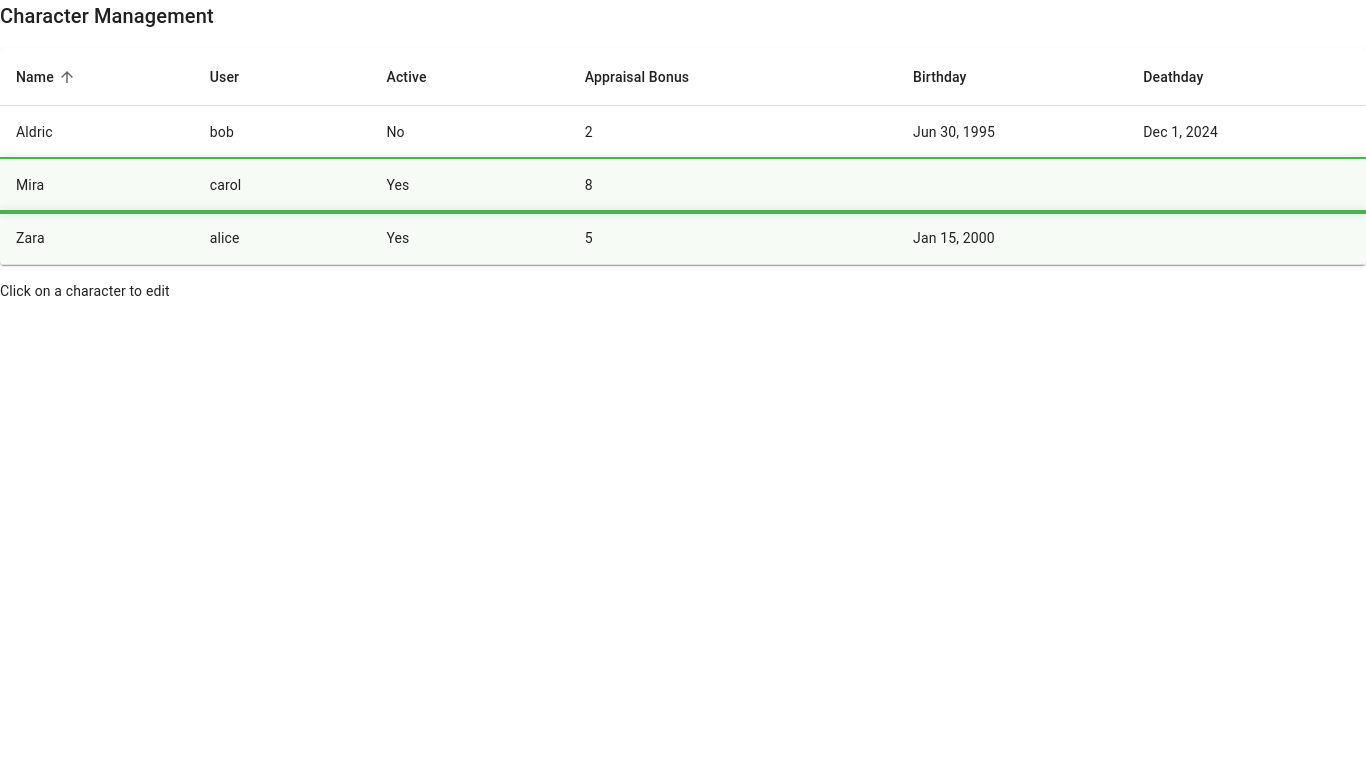
Test case: CharacterManagement (DMSettings) › updating a character › keeps a former member selectable as the owner so the select is never blank
Click the row "Zara" at (683, 238), box [0,212,1365,265]
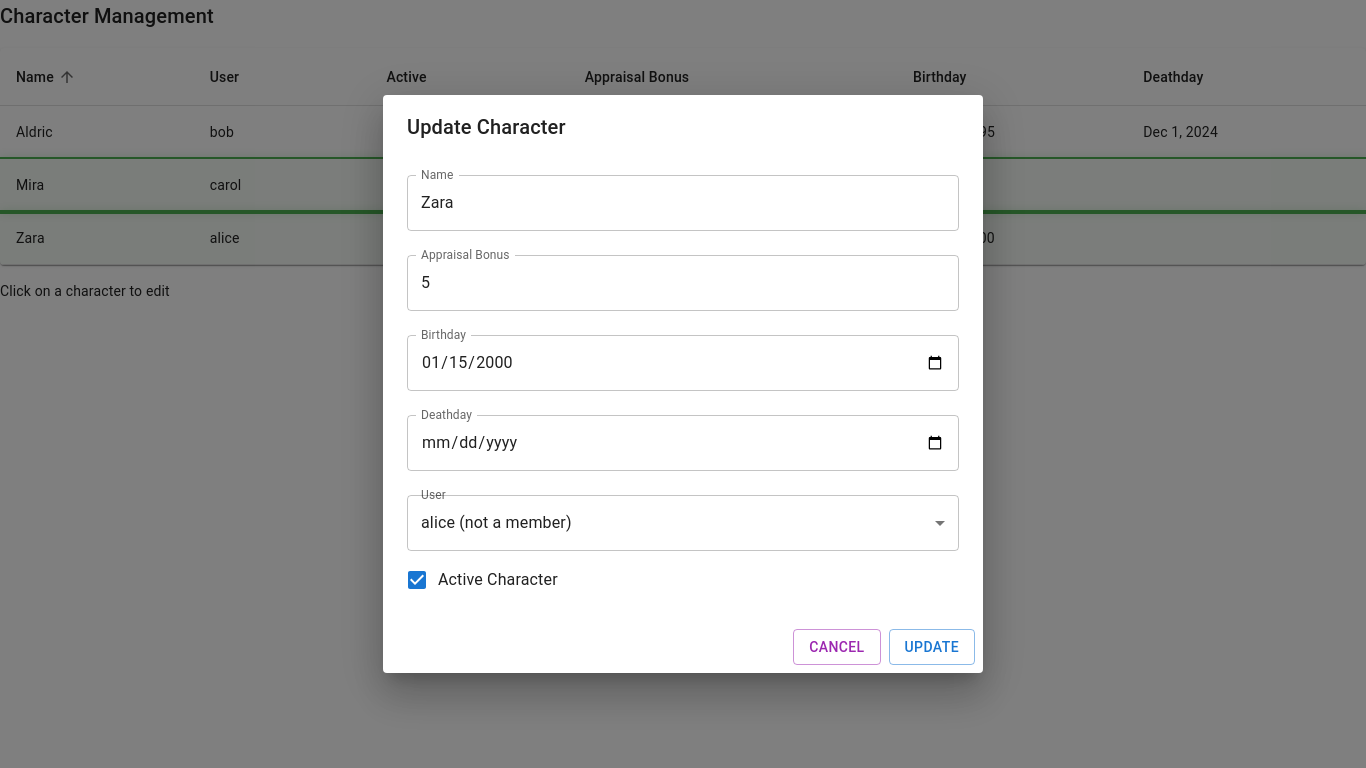
Expected: the dropdown reads "alice (not a member)", [421,513,572,532]
